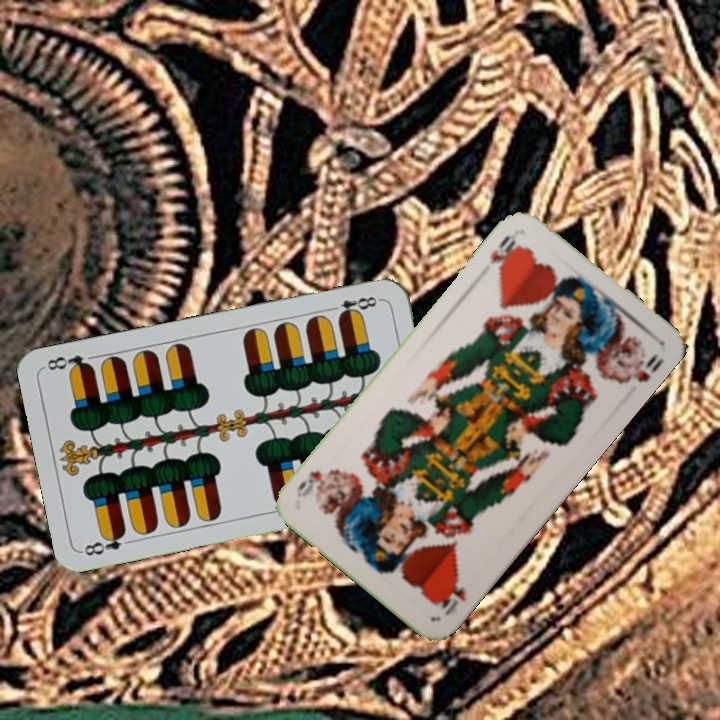E8: (325, 292, 384, 321), (79, 527, 129, 559)
HO: (485, 228, 523, 273), (432, 575, 470, 618)
